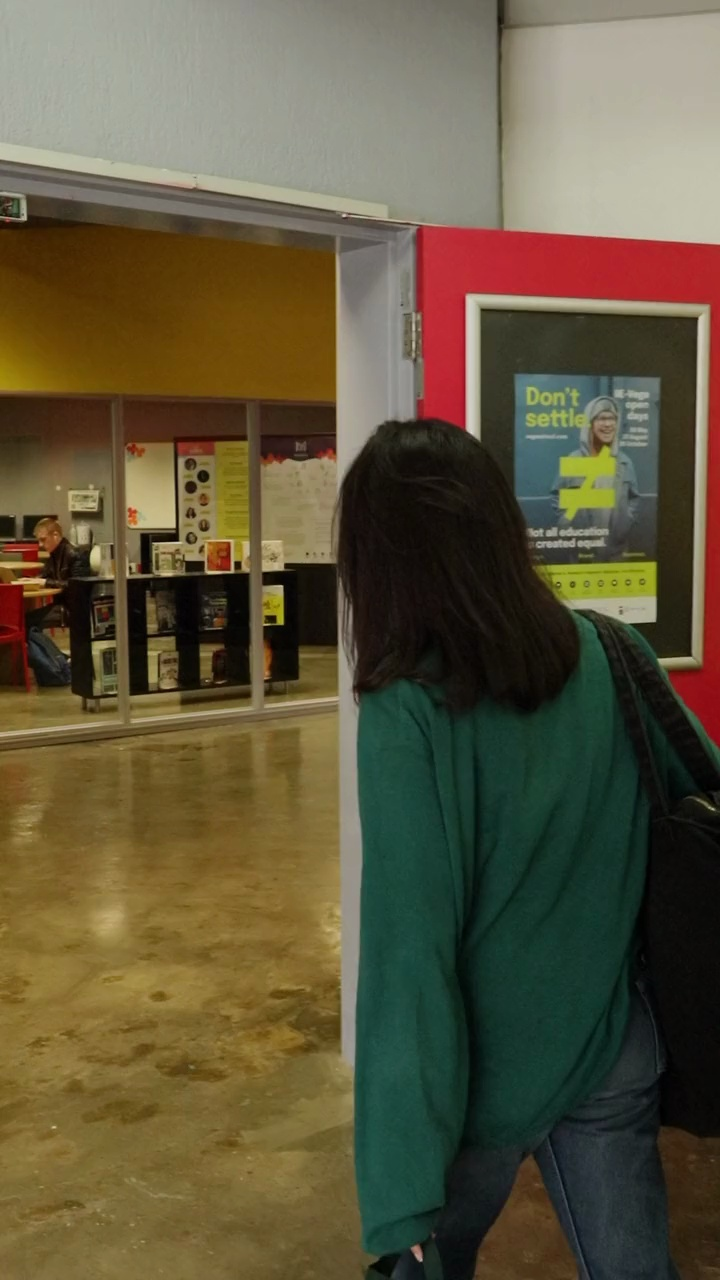electronics: (0, 133, 375, 728), (33, 134, 311, 717), (475, 281, 720, 734), (0, 543, 49, 694)
perfume_bottle: (0, 0, 573, 637), (359, 0, 720, 609)
